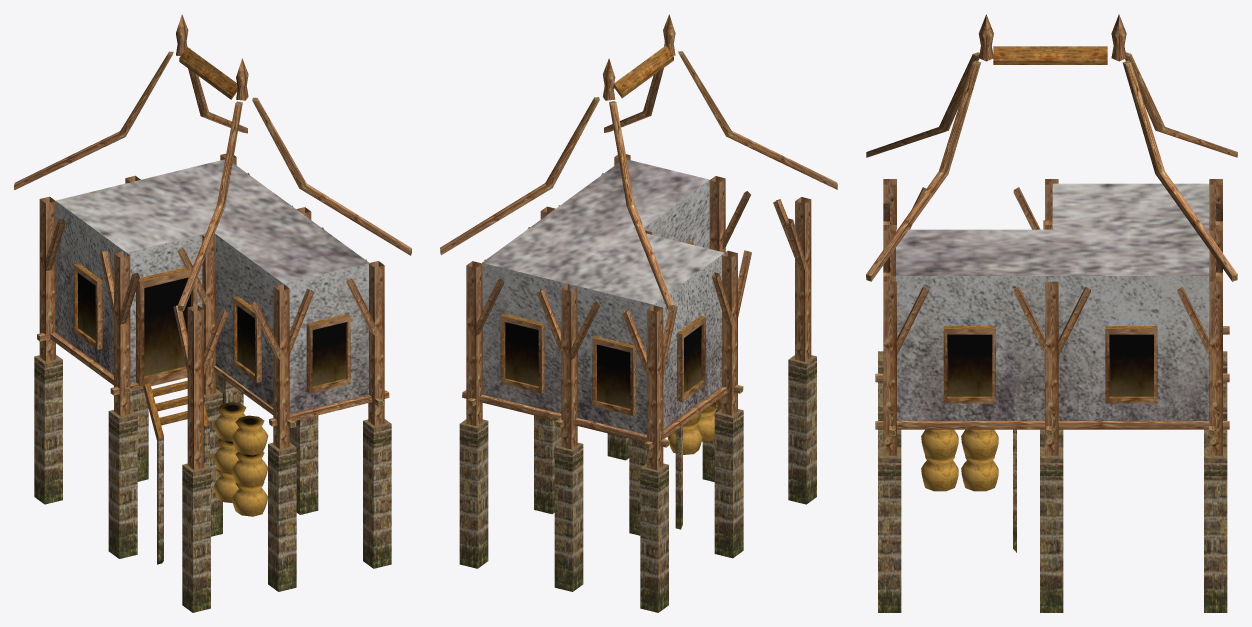
Rendered from house_02.dae.
3 views of the same model, side by side, from view 1: azimuth 30°, elevation 25°; view 2: azimuth 150°, elevation 25°; view 3: azimuth 270°, elevation 25° (orthographic). The views are drawn at different scales.
Visible parts, largest first — view 1: house_2; view 2: house_2; view 3: house_2.
Part boxes in pixels (x1=…): house_2: x1=14, y1=14, x2=411, y2=612; house_2: x1=440, y1=14, x2=837, y2=612; house_2: x1=866, y1=14, x2=1237, y2=612.
Bounding box in the file's own units: 9.85 × 12.3 × 20.07.
